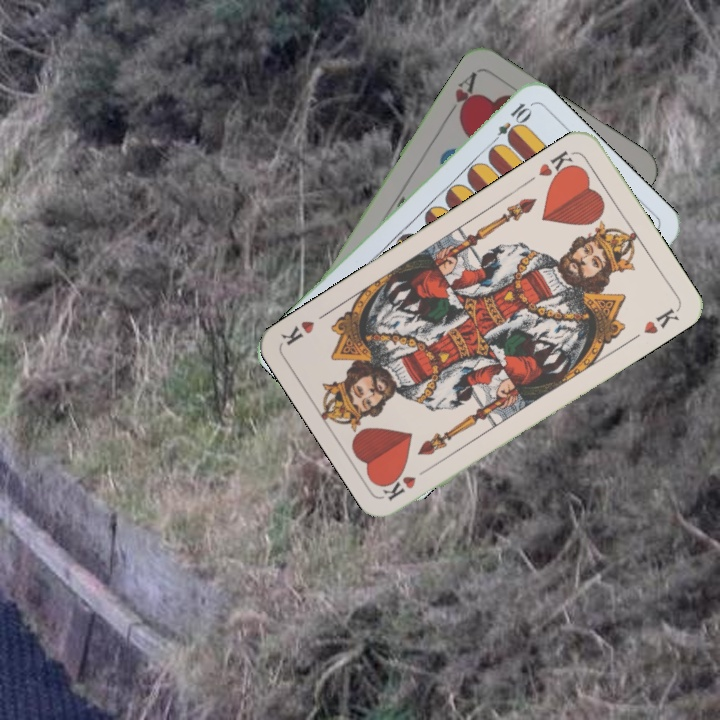E10: (486, 99, 533, 149)
HA: (442, 67, 480, 123)
HK: (379, 462, 435, 503), (534, 146, 579, 185)
